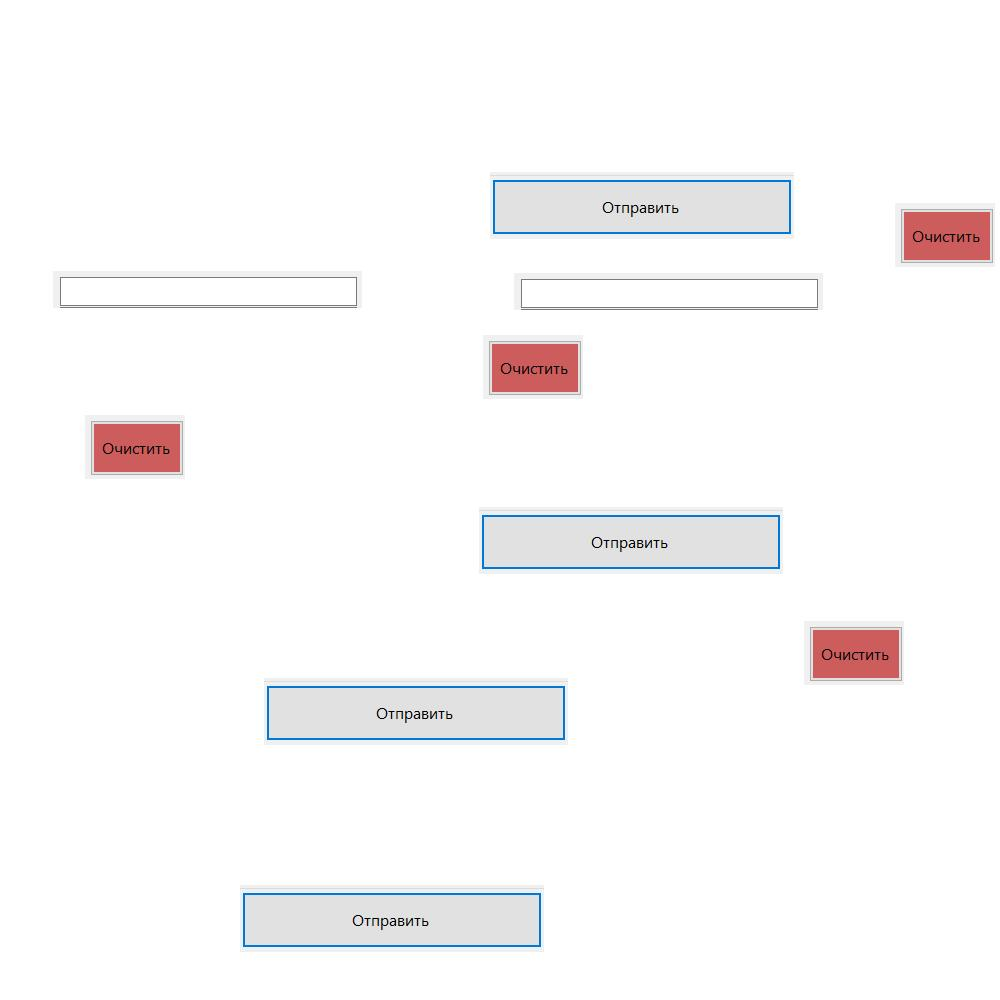Button: (240, 885, 544, 952), (479, 507, 783, 574), (490, 172, 794, 239), (264, 678, 568, 745), (483, 335, 583, 399), (85, 415, 185, 479), (895, 203, 995, 267), (804, 621, 904, 685)
EditText-: (514, 273, 823, 310), (53, 271, 362, 308)
